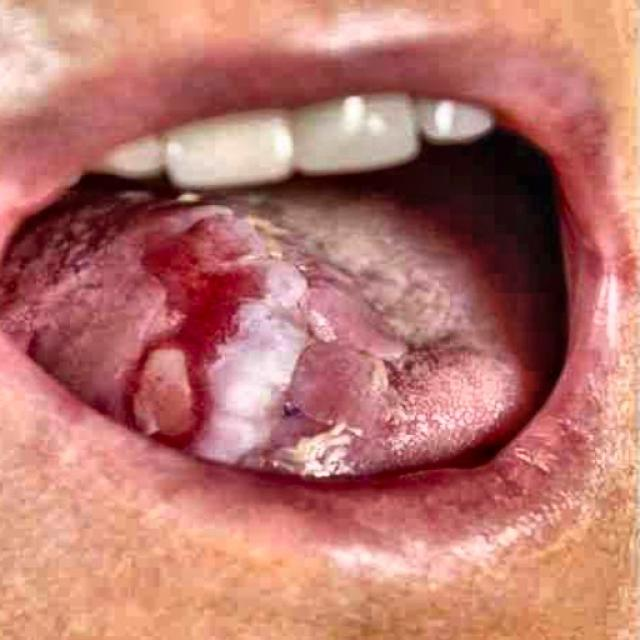cancer-detection: (3, 189, 514, 476)
processing_area: (2, 182, 557, 485)
